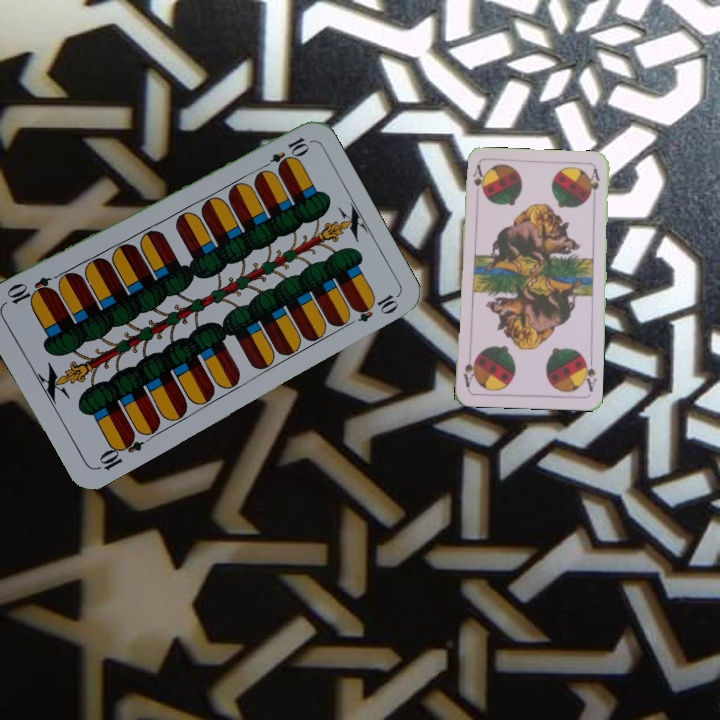E10: (92, 429, 146, 473), (256, 133, 311, 174)
SA: (579, 354, 599, 394), (469, 161, 485, 202)
